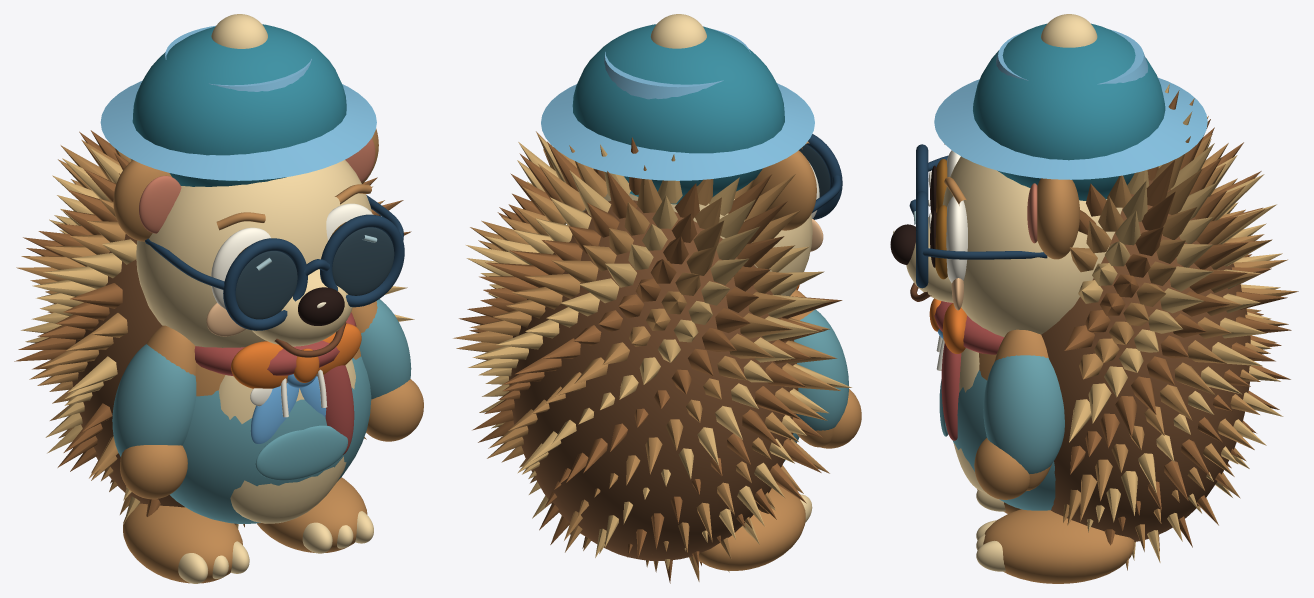
Rendered from hedgehog.glb.
3 renders of one model, left to right at view 1: azimuth 30°, elevation 25°; view 2: azimuth 150°, elevation 25°; view 3: azimuth 270°, elevation 25°, orthographic.
Visible parts, largest first — view 1: FyrFyrych, wear_hoodie, wear_beanie, wear_glasses, wear_panama, base_tummy, wear_scarf, default_bow, wear_tie, base_arm_left, base_torso; view 2: FyrFyrych, wear_beanie, wear_panama, wear_hoodie, wear_glasses, base_arm_left; view 3: FyrFyrych, wear_beanie, wear_hoodie, wear_panama, wear_glasses, wear_scarf, base_arm_right, default_bow, base_tummy.
Part boxes in pixels (x1,y1,x2,y2): FyrFyrych: (14,128,423,583); wear_hoodie: (112,299,411,523); wear_beanie: (132,14,346,186); wear_glasses: (145,195,404,330); wear_panama: (100,25,376,180); base_tummy: (218,359,355,523); wear_scarf: (194,312,356,454); default_bow: (231,323,361,388); wear_tie: (250,374,326,443); base_arm_left: (146,325,196,375); base_torso: (195,348,360,396); FyrFyrych: (453,131,861,583); wear_beanie: (572,14,784,204); wear_panama: (541,29,814,180); wear_hoodie: (784,309,848,461); wear_glasses: (799,134,842,219); base_arm_left: (790,289,834,447); FyrFyrych: (890,84,1298,583); wear_beanie: (973,14,1165,200); wear_hoodie: (936,336,1064,510); wear_panama: (934,29,1207,179); wear_glasses: (909,144,1047,288); wear_scarf: (934,301,1003,440); base_arm_right: (994,329,1051,490); default_bow: (929,298,966,353); base_tummy: (953,348,985,492).
Size of the model in its own units: 2.27 by 3.26 by 2.24.
